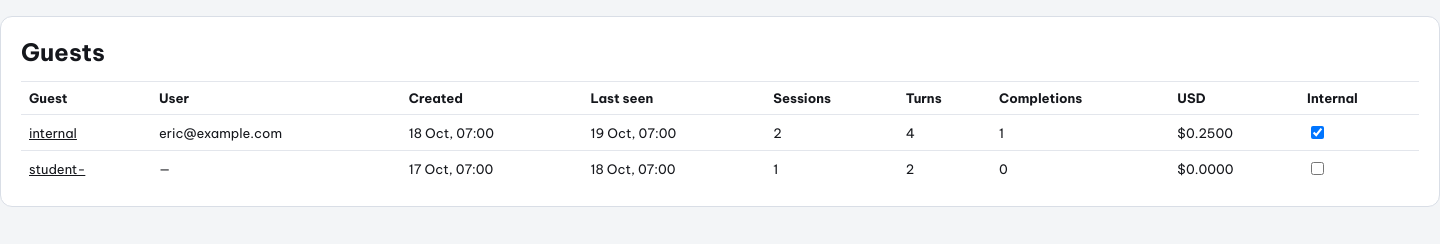
Test: a failed toggle reverts the checkbox and shows an error
This screenshot has width=1440, height=244.
Click the checkbox named "Mark internal for student-abcdefgh" at (1318, 168), box [1311,162,1324,175]
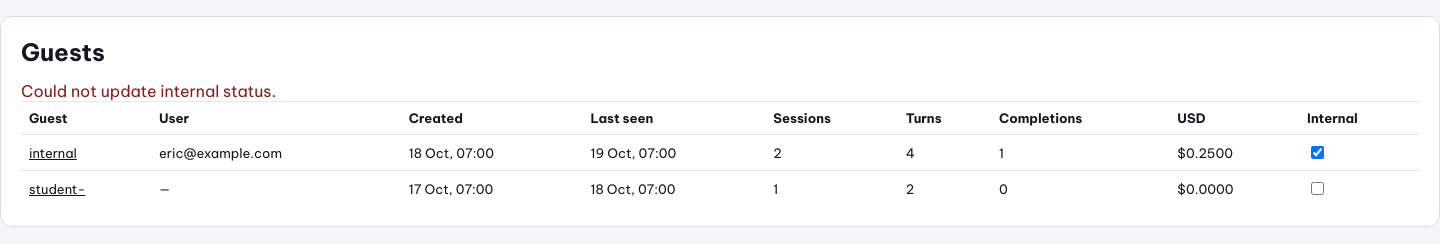
Check: the checkbox named "Mark internal for student-abcdefgh" is not checked, box [1311,182,1324,195]
Check: the text "Could not update internal status." is shown, box [21,81,276,101]
